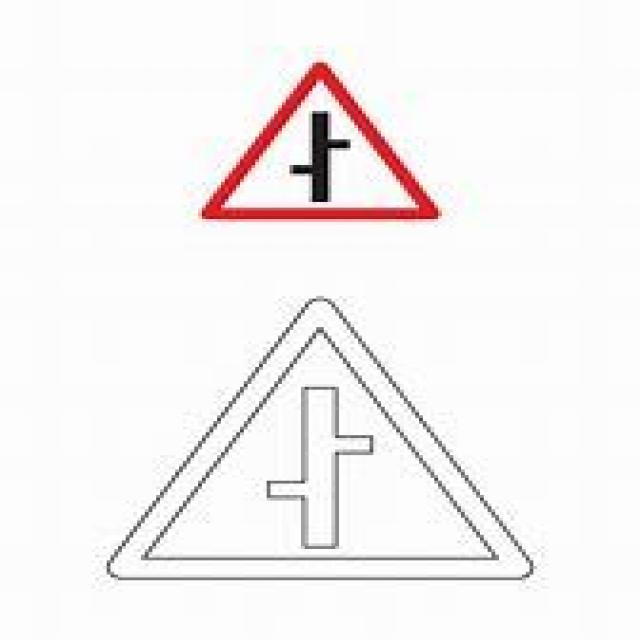STAGGERED_INTERSECTION: (95, 290, 537, 583), (190, 57, 450, 222)
